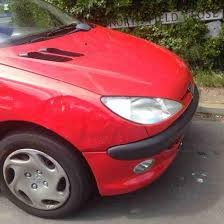Dent: (48, 93, 109, 134), (1, 80, 17, 112)
